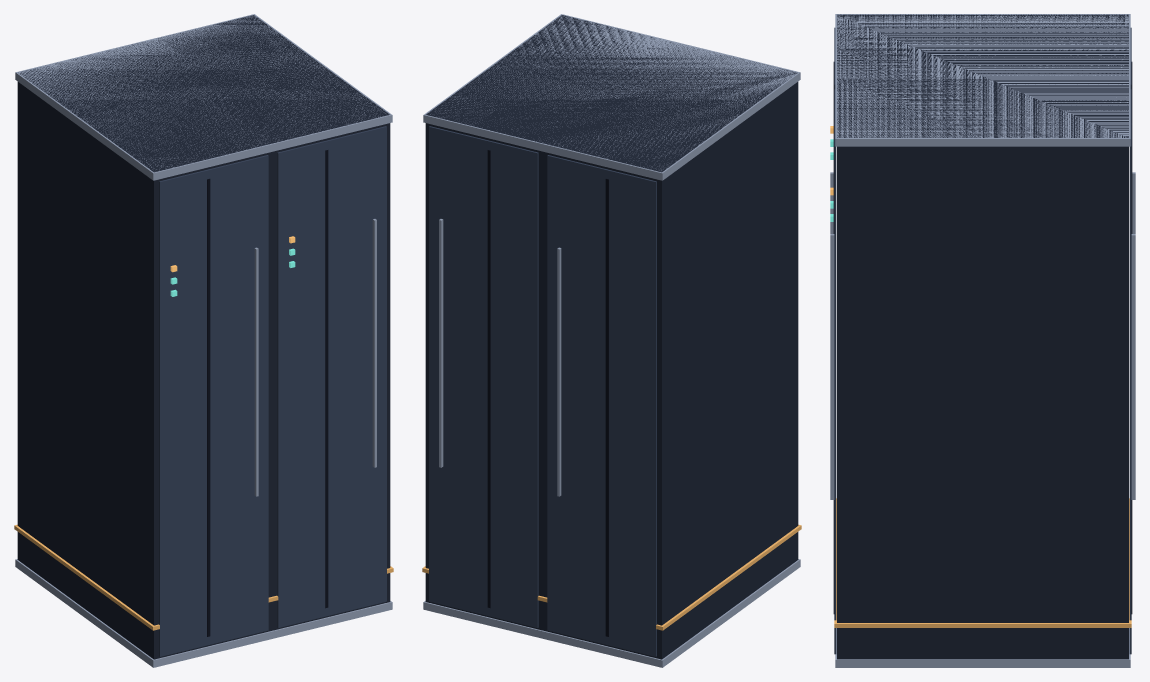
File: cover-locker-cp04.glb
The picture shows the model from 3 angles, left to right: view 1: azimuth 30°, elevation 25°; view 2: azimuth 150°, elevation 25°; view 3: azimuth 270°, elevation 25°; orthographic projection. The views are drawn at different scales.
Parts seen in each view (by area): view 1: cover-locker-merged (×4), Body; view 2: cover-locker-merged (×4), Body; view 3: Body, cover-locker-merged (×4).
Part boxes in pixels (left/top/right/bottom): cover-locker-merged (×4): left=14, top=14, right=393, bottom=667; Body: left=17, top=15, right=390, bottom=659; cover-locker-merged (×4): left=422, top=14, right=801, bottom=667; Body: left=425, top=15, right=798, bottom=659; Body: left=837, top=14, right=1128, bottom=659; cover-locker-merged (×4): left=830, top=14, right=1135, bottom=667.
Bounding box in the file's own units: 2.04 × 4 × 2.09.
